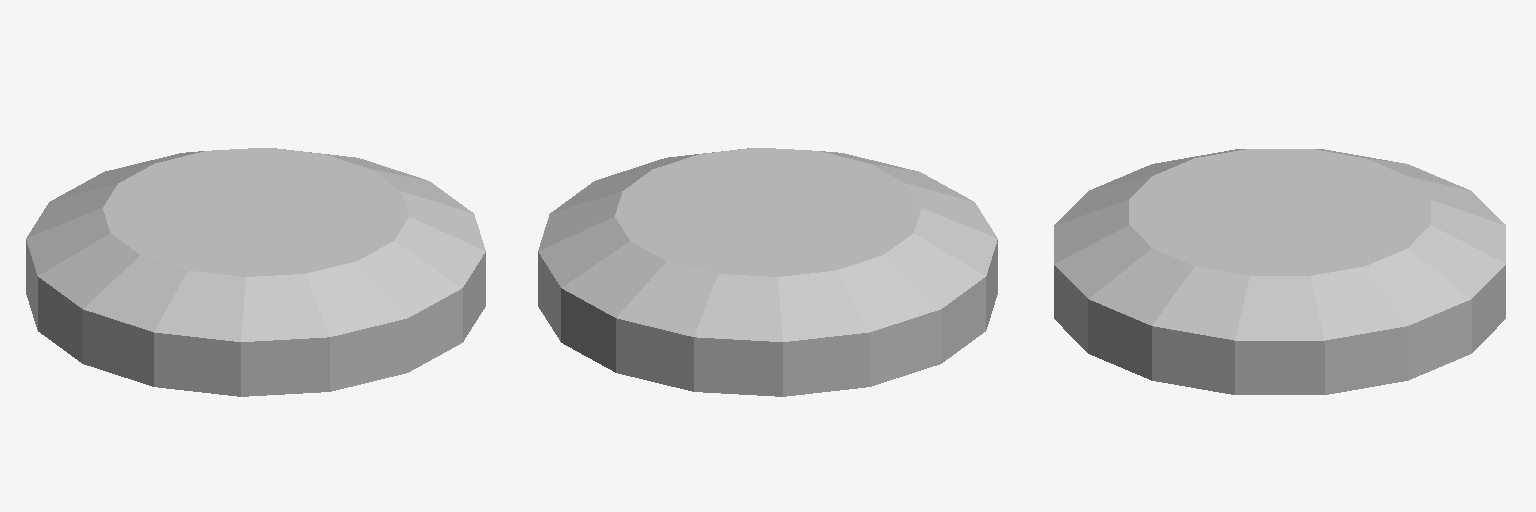
Rendered from eridani_adapter_s1p5_s1_1_collider.obj.
The picture shows the model from 3 angles: view 1: azimuth 30°, elevation 25°; view 2: azimuth 150°, elevation 25°; view 3: azimuth 270°, elevation 25°; orthographic projection.
Parts seen in each view (by area): view 1: collider; view 2: collider; view 3: collider.
Part boxes in pixels (bbox=[...]): collider: bbox=[26, 148, 485, 396]; collider: bbox=[538, 148, 997, 396]; collider: bbox=[1054, 149, 1505, 394].
Bounding box in the file's own units: 1.88 × 0.4 × 1.88.